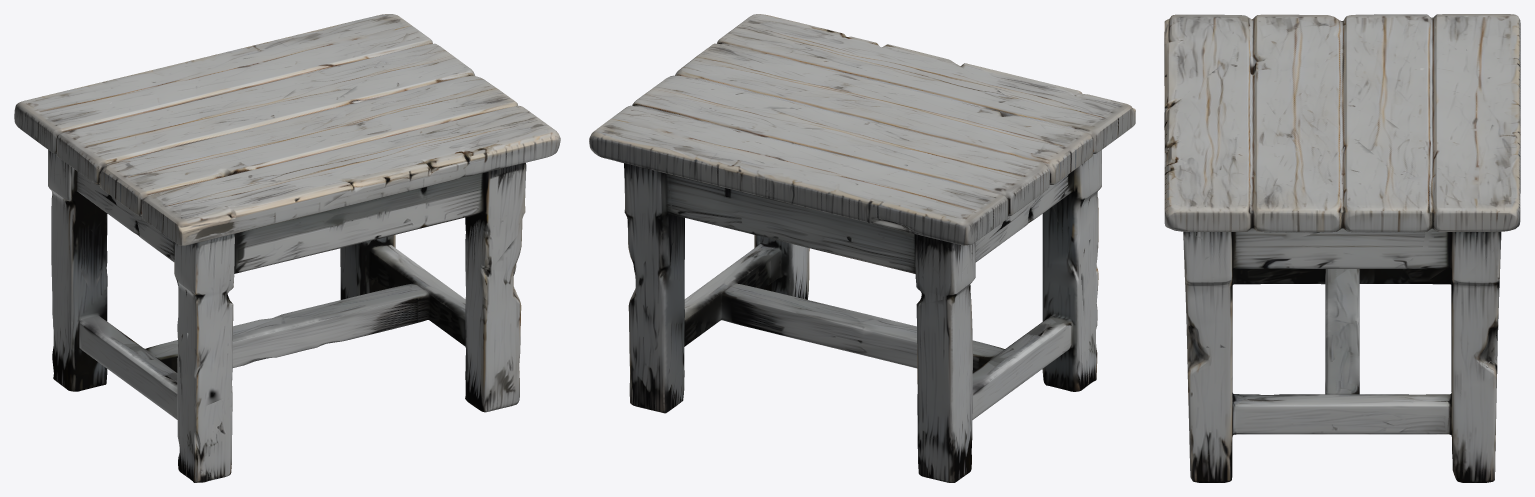
Rendered from lhi_kitchen_table.glb.
3 renders of one model, left to right at view 1: azimuth 30°, elevation 25°; view 2: azimuth 150°, elevation 25°; view 3: azimuth 270°, elevation 25°, orthographic. The views are drawn at different scales.
Parts seen in each view (by area): view 1: material; view 2: material; view 3: material.
Part boxes in pixels (x1=…): material: x1=14, y1=14, x2=560, y2=482; material: x1=589, y1=14, x2=1135, y2=482; material: x1=1164, y1=14, x2=1520, y2=482.
Bounding box in the file's own units: 0.847 × 0.5846 × 0.6492.
Materials: 1 (1 with a texture image).
